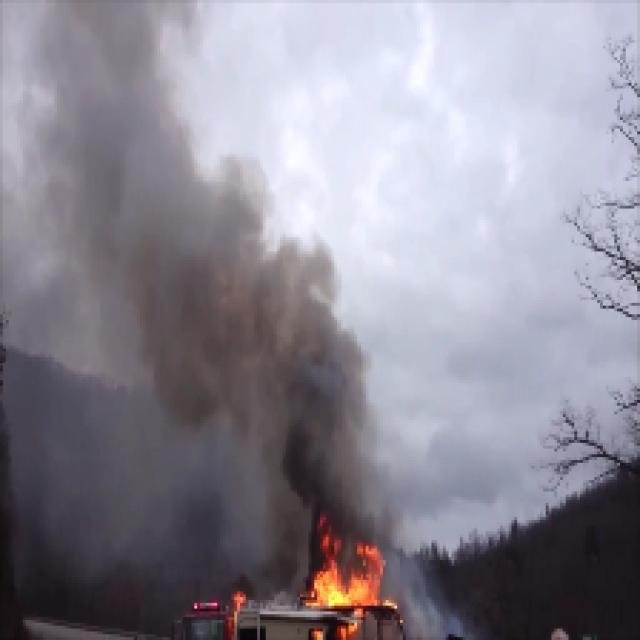Fire: (316, 549, 375, 605)
Smoke: (151, 223, 282, 414), (292, 361, 360, 520)
